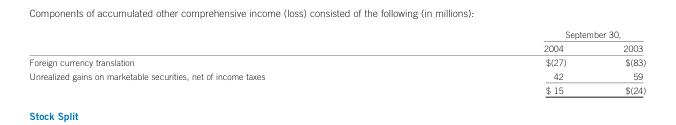table: (28, 28, 645, 94)
table column: (28, 28, 403, 94), (403, 28, 594, 94), (594, 28, 645, 94)
table column header: (28, 28, 645, 54)
table row: (28, 40, 645, 54), (28, 54, 645, 68), (28, 68, 645, 82), (28, 28, 645, 40), (28, 82, 645, 94)
table spanning cell: (403, 28, 645, 40)
